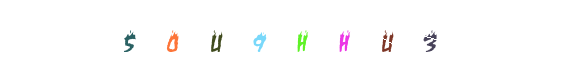3: (304, 0, 384, 80)
5: (133, 0, 213, 80)
9: (250, 0, 330, 80)
H: (250, 0, 330, 80), (257, 0, 337, 80)
O: (220, 0, 300, 80)
U: (235, 0, 315, 80), (262, 0, 342, 80)
